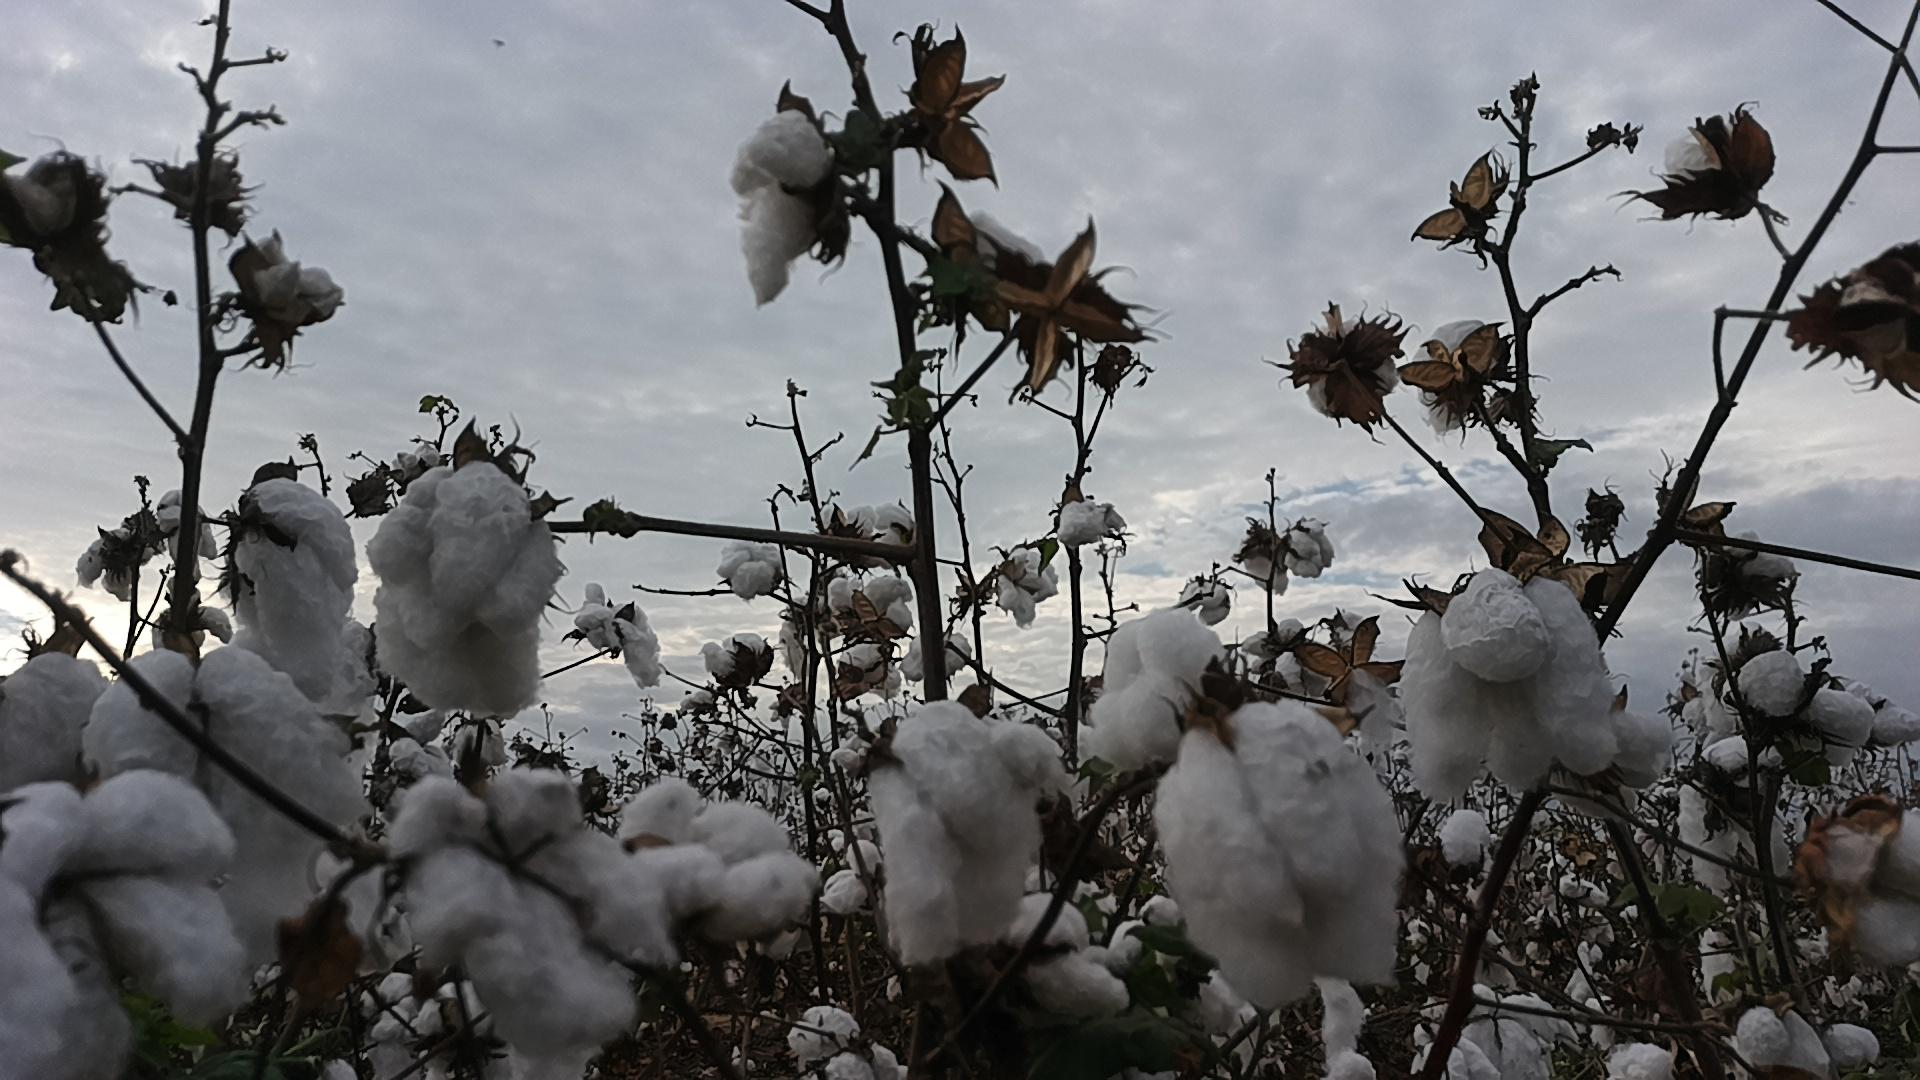cotton_ready: (388, 771, 678, 1073), (88, 647, 369, 936), (0, 773, 261, 1080), (1155, 698, 1403, 1001), (1403, 568, 1626, 796), (368, 463, 566, 717), (870, 700, 1060, 965), (622, 779, 818, 945), (225, 483, 363, 703), (1085, 608, 1230, 771), (736, 109, 833, 306), (1106, 897, 1250, 1029), (0, 650, 116, 810), (1677, 738, 1792, 895), (1808, 815, 1920, 975), (1733, 647, 1874, 773), (1000, 895, 1130, 1029), (1303, 320, 1400, 422), (1460, 985, 1563, 1080), (786, 1001, 898, 1080), (1411, 318, 1495, 417), (244, 239, 340, 315), (965, 211, 1054, 278), (1665, 132, 1751, 190)
